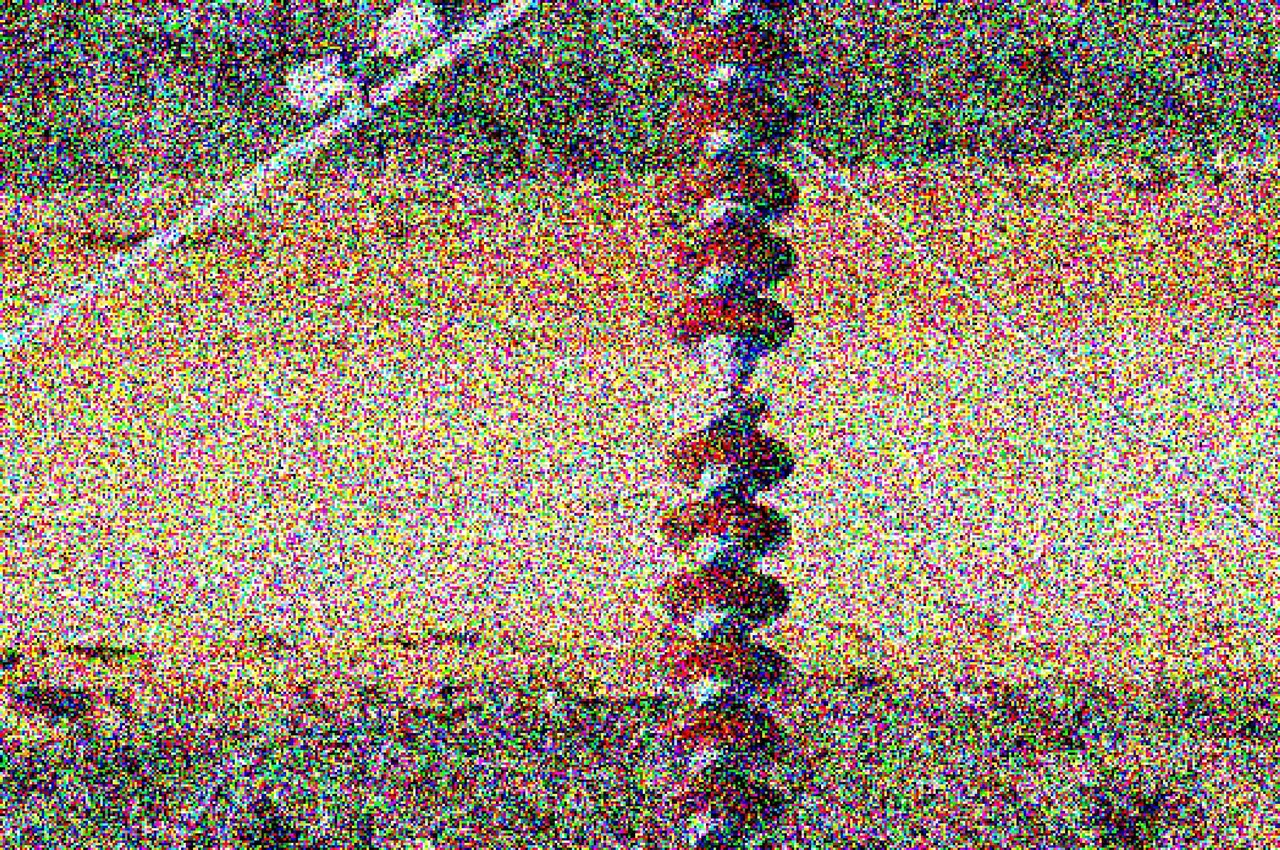Broken: (667, 359, 796, 429)
No issues: (648, 774, 791, 850), (649, 705, 792, 781), (648, 636, 791, 712), (650, 566, 793, 642), (655, 292, 798, 368), (658, 221, 801, 297), (659, 156, 802, 232), (665, 84, 808, 160), (661, 20, 804, 96), (654, 430, 796, 506), (652, 497, 794, 568)
String: (635, 2, 816, 850)
